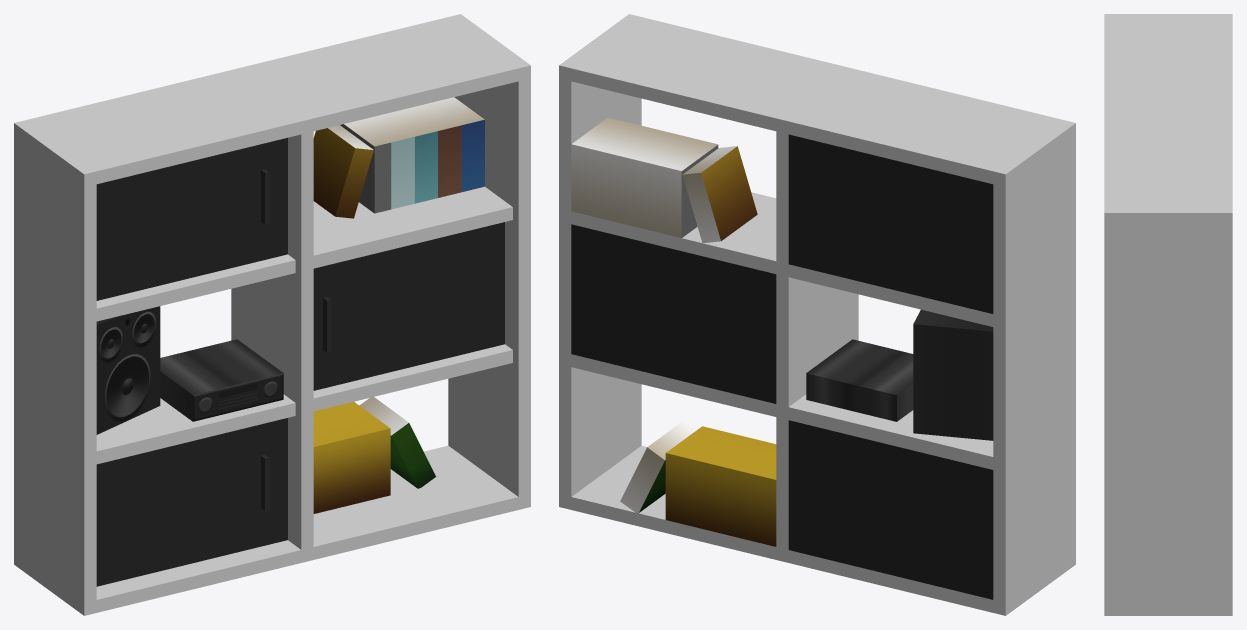
File: Rack_002.fbx
The picture shows the model from 3 angles, left to right: view 1: azimuth 30°, elevation 25°; view 2: azimuth 150°, elevation 25°; view 3: azimuth 270°, elevation 25°; orthographic projection. The views are drawn at different scales.
Visible parts, largest first — view 1: Rack_002; view 2: Rack_002; view 3: Rack_002.
Boxes of the visible parts, left/top/right/bottom form: Rack_002: left=14, top=14, right=530, bottom=615; Rack_002: left=559, top=14, right=1075, bottom=615; Rack_002: left=1104, top=14, right=1232, bottom=615.
Bounding box in the file's own units: 180 × 170 × 49.
